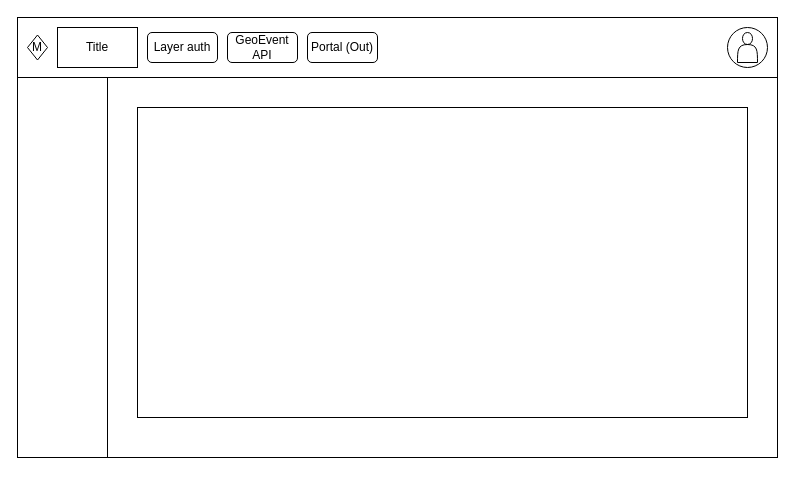
Image size: 795x477. Some labels were removed from this diagram. The centre of each missing label's shape, as x and y in pixels:
Main Pane: (442,262)
Menu Item Menu Item Menu Item Menu Item: (62,267)
